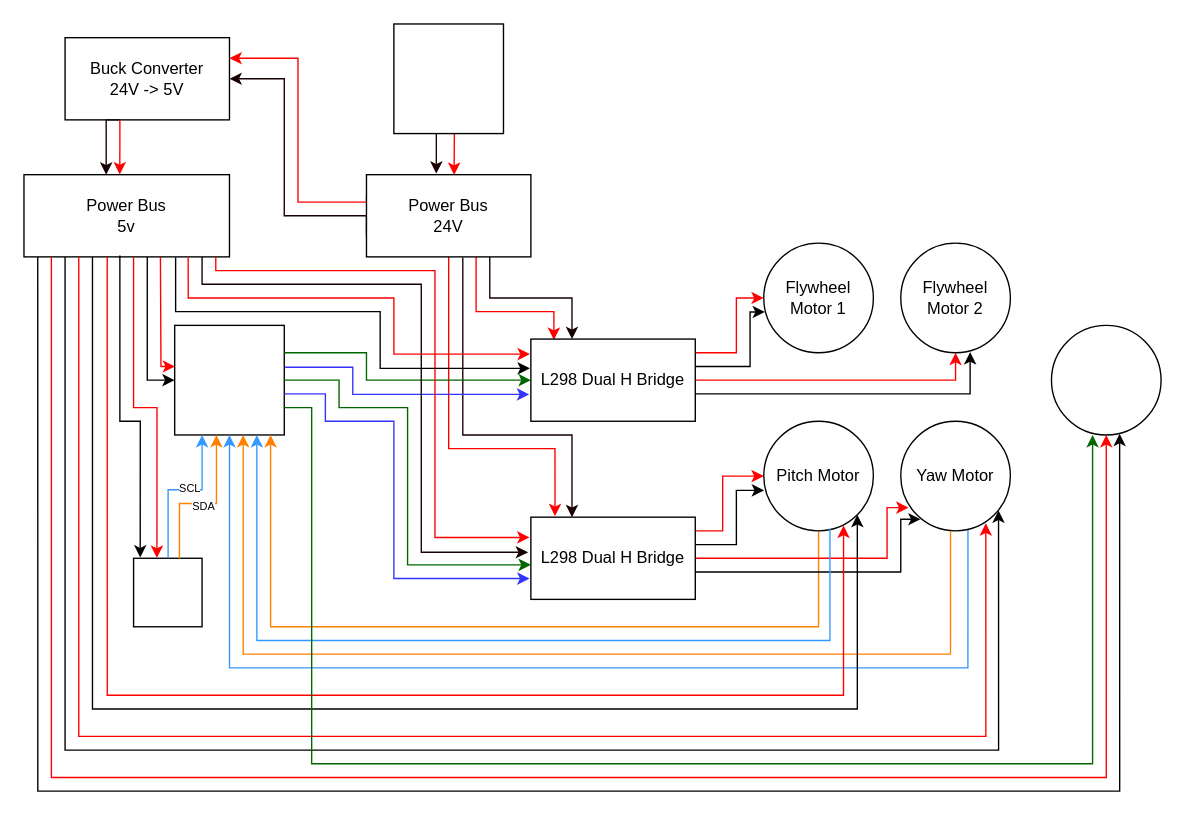
This 1185x826 diagram has some shape labels left out. The box of each missing label's shape, as (x1, y1, x2, y2) in pixels:
AMG8833: (132, 557, 202, 627)
DeWalt 24V: (393, 23, 503, 134)
Firing Pin: (1050, 324, 1161, 435)
Nucleo: (173, 324, 284, 435)
